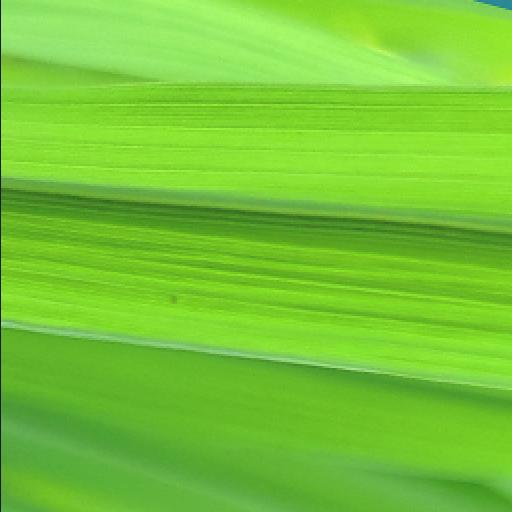Healthy Leaf: (2, 80, 508, 384)
